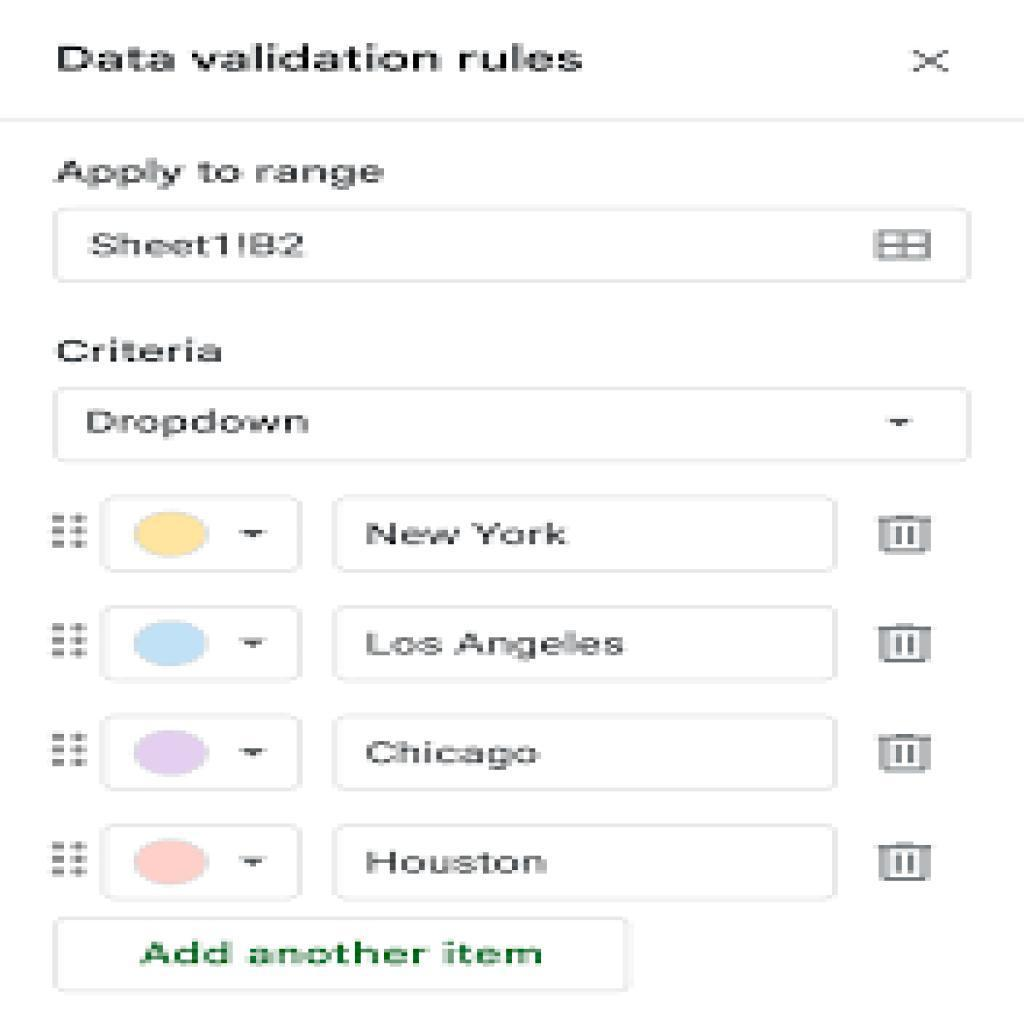button: (54, 915, 630, 992)
dropdown: (57, 387, 969, 464), (103, 493, 304, 571), (104, 604, 301, 682), (104, 822, 302, 899), (102, 715, 298, 791)
icon: (872, 833, 946, 898), (867, 615, 943, 676), (870, 727, 937, 784), (868, 512, 941, 564), (869, 226, 940, 268), (47, 504, 96, 562), (47, 724, 96, 779), (48, 837, 89, 886), (48, 615, 83, 663), (911, 48, 953, 78)
input: (57, 211, 974, 284), (337, 494, 838, 575), (332, 604, 838, 684), (335, 717, 838, 794), (332, 822, 835, 898)
